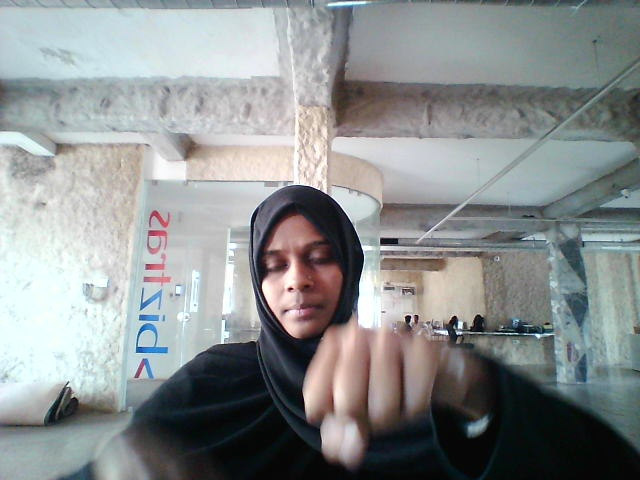YES: (297, 322, 466, 473)
